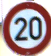20 km speed: (1, 1, 51, 55)
